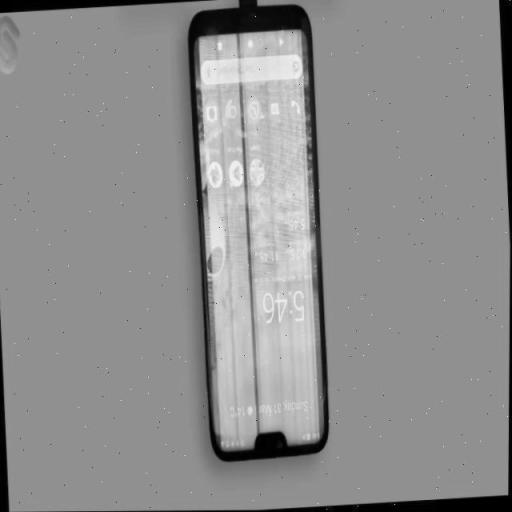phone: (191, 1, 328, 468)
